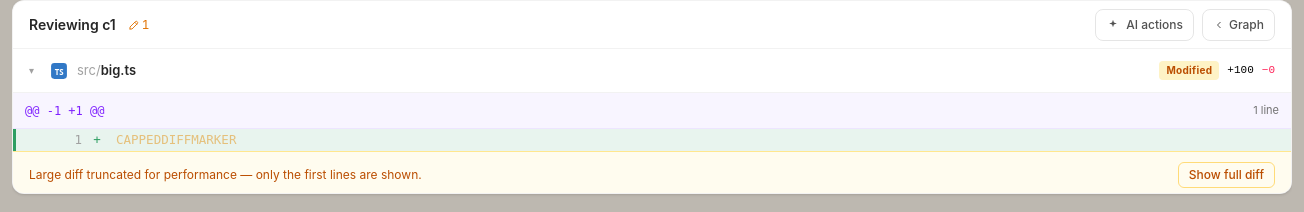
Test: StackedReview — progressive load + collapse › offers 'show full diff' on a truncated diff and re-fetches uncapped
// Showing full re-keys the fetch (path:full) to bypass the cap and renders it.
Click the button "Show full diff". click: click(1226, 175)
box: [1178,162,1275,188]
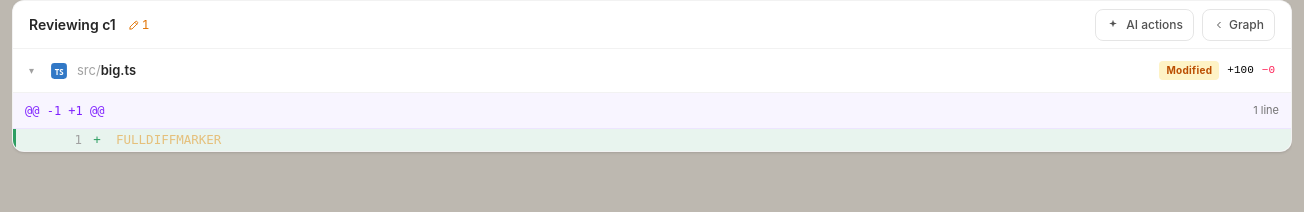
Expected: the text "FULLDIFFMARKER" is shown, [116,132,221,147]
